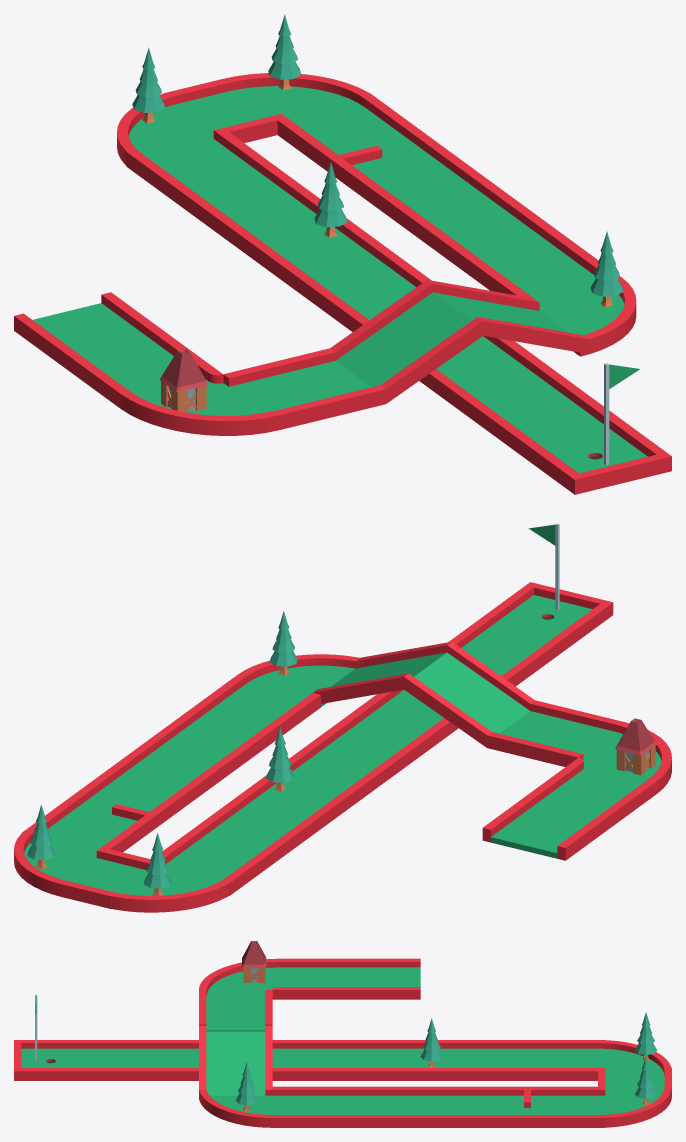
File: teren_golf1.obj
3 views of the same model, one above another, from view 1: azimuth 30°, elevation 25°; view 2: azimuth 150°, elevation 25°; view 3: azimuth 270°, elevation 25° (orthographic). The views are drawn at different scales.
Size of the model in its own units: 5.1 by 1.05 by 8.9.
